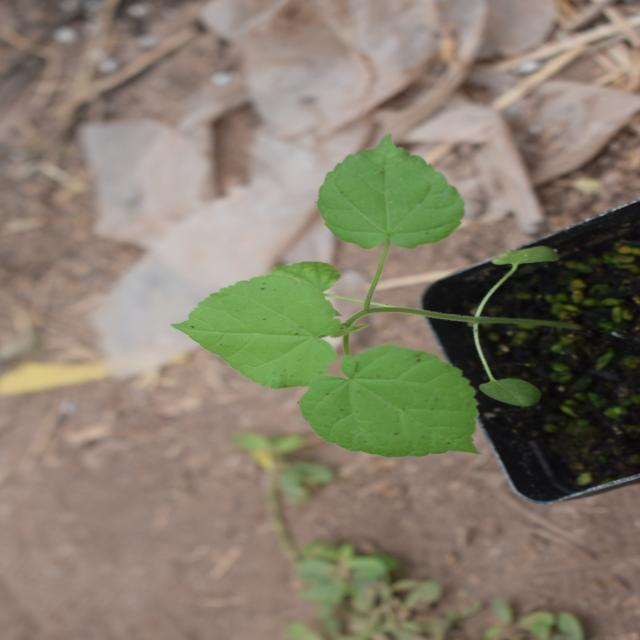abutilon theophrasti: (168, 180, 506, 528)
